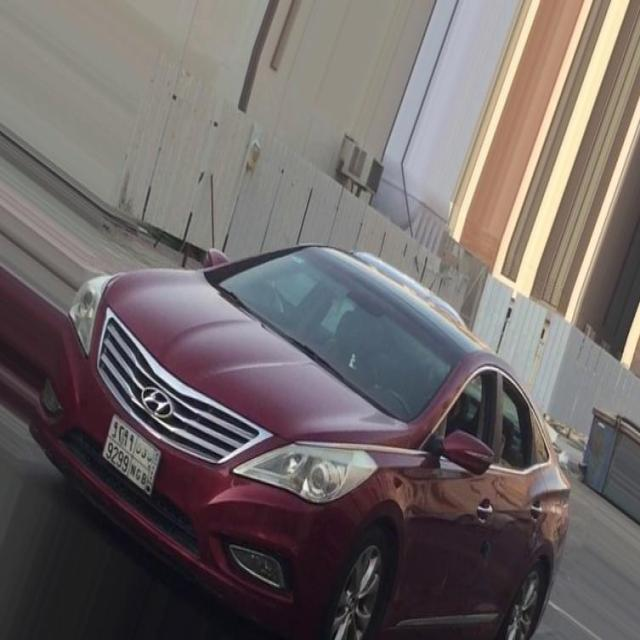Car-plate: (99, 402, 165, 504)
